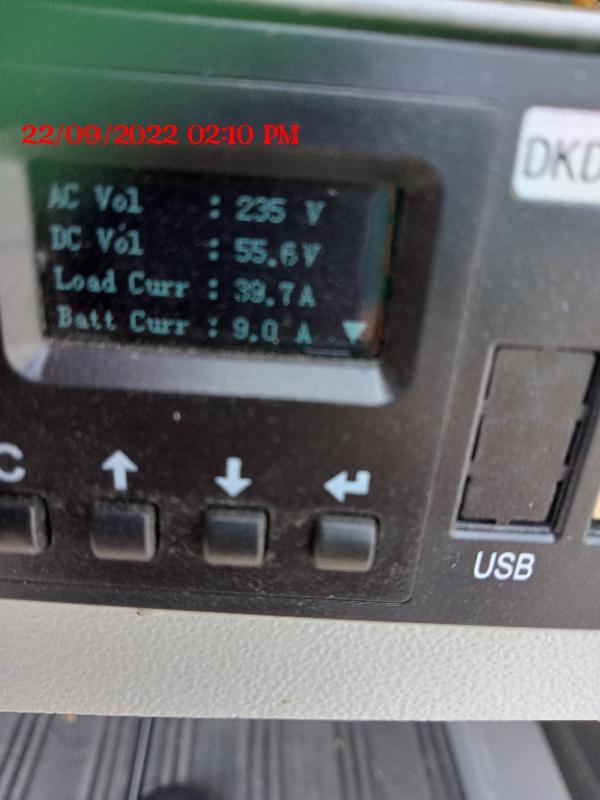NoClampMeter_Display: (20, 161, 413, 368)
